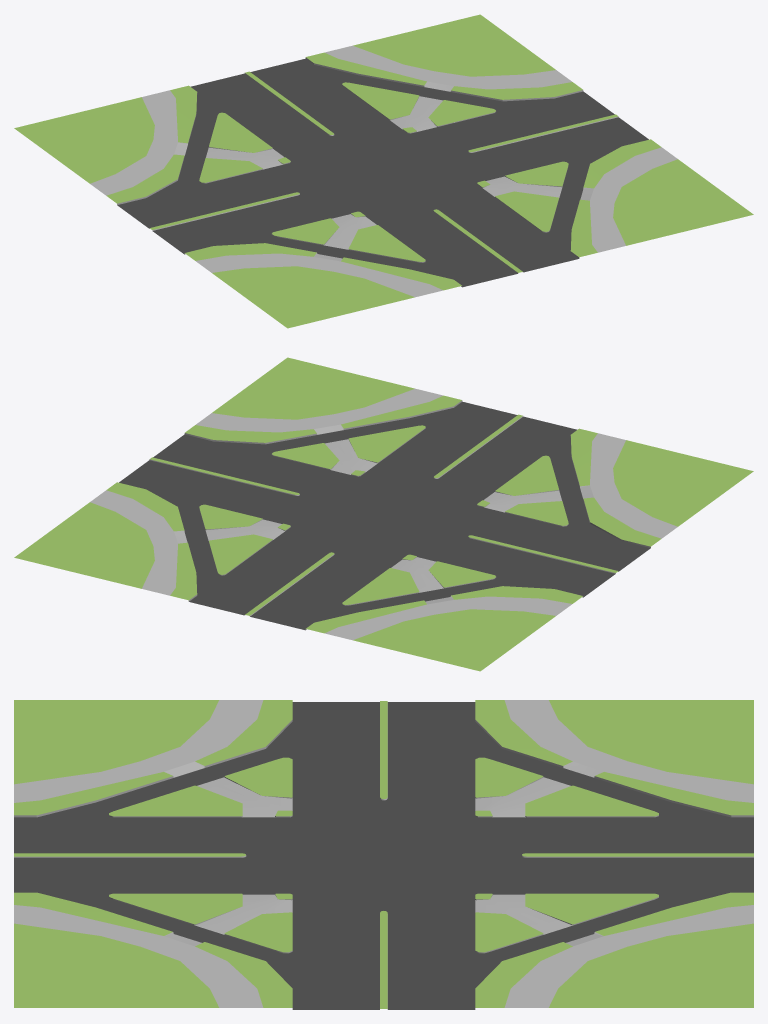
The model's file is Intersection.fbx.
3 views of the same model, one above another, from view 1: azimuth 30°, elevation 25°; view 2: azimuth 150°, elevation 25°; view 3: azimuth 270°, elevation 25° (orthographic). The views are drawn at different scales.
Parts seen in each view (by area): view 1: pPlane26, pCube434, pCube436, pCube424, pCube354, pCube435, pCube183, pPlane50, pPlane52, pPlane51, pPlane49, pPlane54 (+11 smaller); view 2: pPlane26, pCube424, pCube354, pCube434, pCube436, pCube183, pCube435, pPlane52, pPlane50, pPlane49, pPlane51, pPlane56 (+11 smaller); view 3: pPlane26, pCube354, pCube436, pCube424, pCube434, pCube183, pCube435, pPlane53, pPlane54, pPlane55, pPlane56, pPlane50 (+11 smaller).
Part boxes in pixels (x1=…): pPlane26: x1=263, y1=120, x2=504, y2=225; pCube434: x1=305, y1=14, x2=583, y2=101; pCube436: x1=14, y1=85, x2=197, y2=204; pCube424: x1=570, y1=139, x2=753, y2=258; pCube354: x1=184, y1=243, x2=462, y2=328; pCube435: x1=199, y1=82, x2=496, y2=183; pCube183: x1=271, y1=161, x2=568, y2=262; pPlane50: x1=440, y1=197, x2=578, y2=272; pPlane52: x1=250, y1=58, x2=389, y2=133; pPlane51: x1=190, y1=73, x2=327, y2=148; pPlane49: x1=379, y1=212, x2=517, y2=287; pPlane54: x1=117, y1=169, x2=293, y2=228; pPlane26: x1=263, y1=463, x2=504, y2=568; pCube424: x1=184, y1=357, x2=462, y2=444; pCube354: x1=570, y1=428, x2=753, y2=547; pCube434: x1=14, y1=482, x2=197, y2=601; pCube436: x1=305, y1=586, x2=583, y2=671; pCube183: x1=271, y1=425, x2=568, y2=526; pCube435: x1=199, y1=504, x2=496, y2=605; pPlane52: x1=189, y1=540, x2=327, y2=615; pPlane50: x1=378, y1=401, x2=517, y2=476; pPlane49: x1=440, y1=416, x2=577, y2=491; pPlane51: x1=250, y1=555, x2=388, y2=630; pPlane56: x1=119, y1=460, x2=294, y2=518; pPlane26: x1=241, y1=798, x2=526, y2=913; pCube354: x1=14, y1=700, x2=292, y2=817; pCube436: x1=475, y1=700, x2=753, y2=817; pCube424: x1=14, y1=892, x2=292, y2=1007; pCube434: x1=475, y1=892, x2=753, y2=1007; pCube183: x1=109, y1=757, x2=292, y2=953; pCube435: x1=475, y1=757, x2=658, y2=953; pPlane53: x1=292, y1=702, x2=379, y2=798; pPlane54: x1=388, y1=702, x2=475, y2=798; pPlane55: x1=292, y1=913, x2=379, y2=1009; pPlane56: x1=388, y1=913, x2=475, y2=1009; pPlane50: x1=14, y1=857, x2=241, y2=894.
Size of the model in its own units: 8006 by 25 by 8134.
